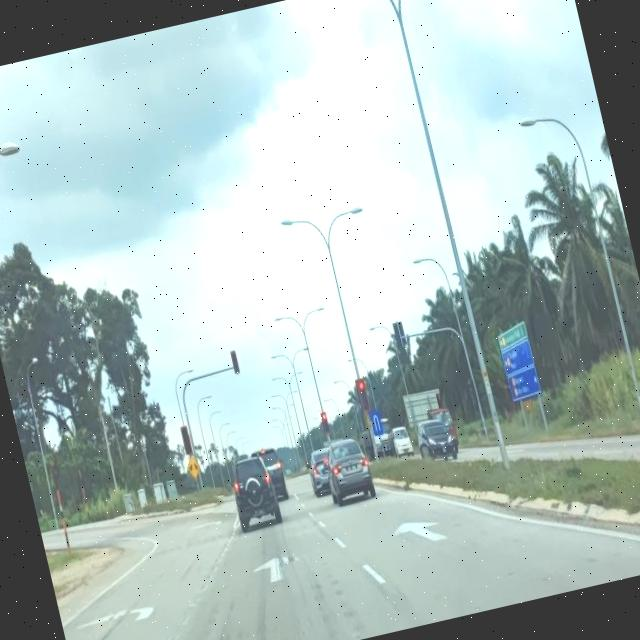red_light: (355, 377, 371, 412), (320, 411, 330, 432)
